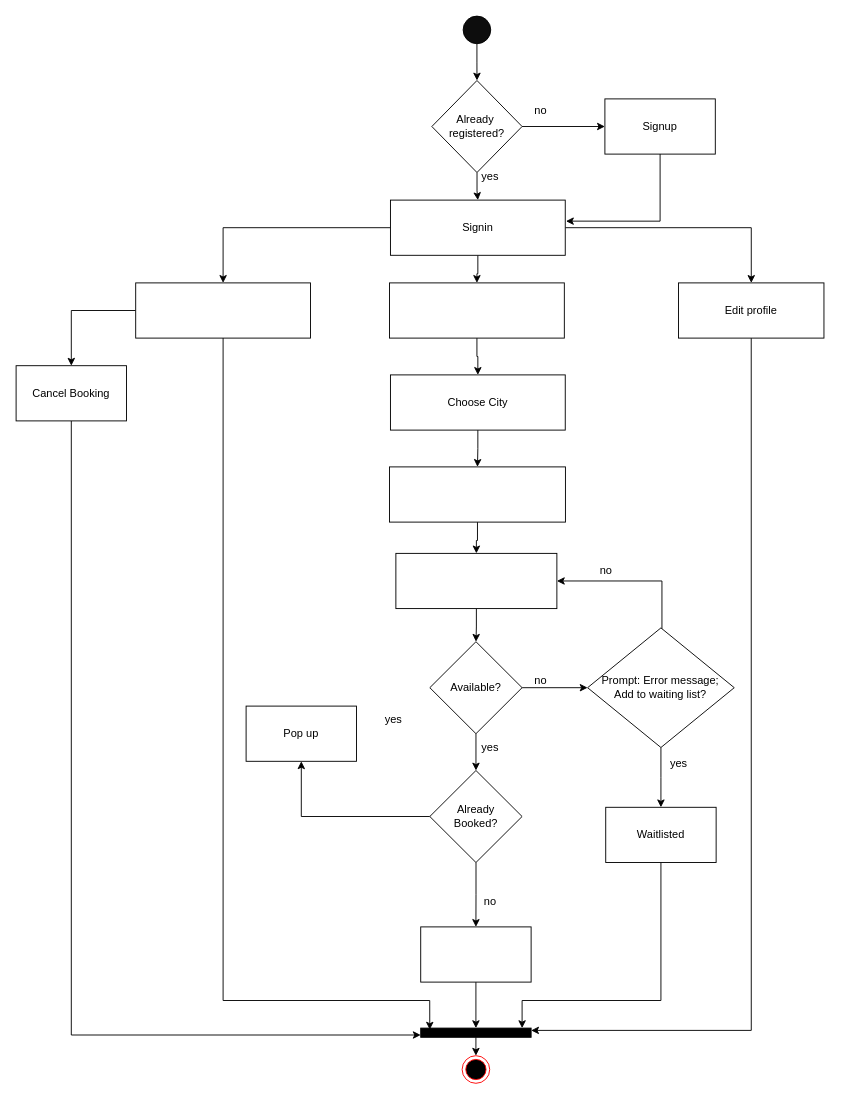
The diagram is 841 pixels wide and 1099 high, and some of its shapes have lost their labels. Here are the shapes that lost their labels. From the top down, the box of each, then its label:
(135, 282, 310, 338): View Bookings/Waitlist
(389, 282, 564, 338): Enter date
(389, 466, 565, 522): Choose Centre
(395, 552, 557, 609): Choose slot
(420, 926, 531, 982): Book slot (Confirm booking)
